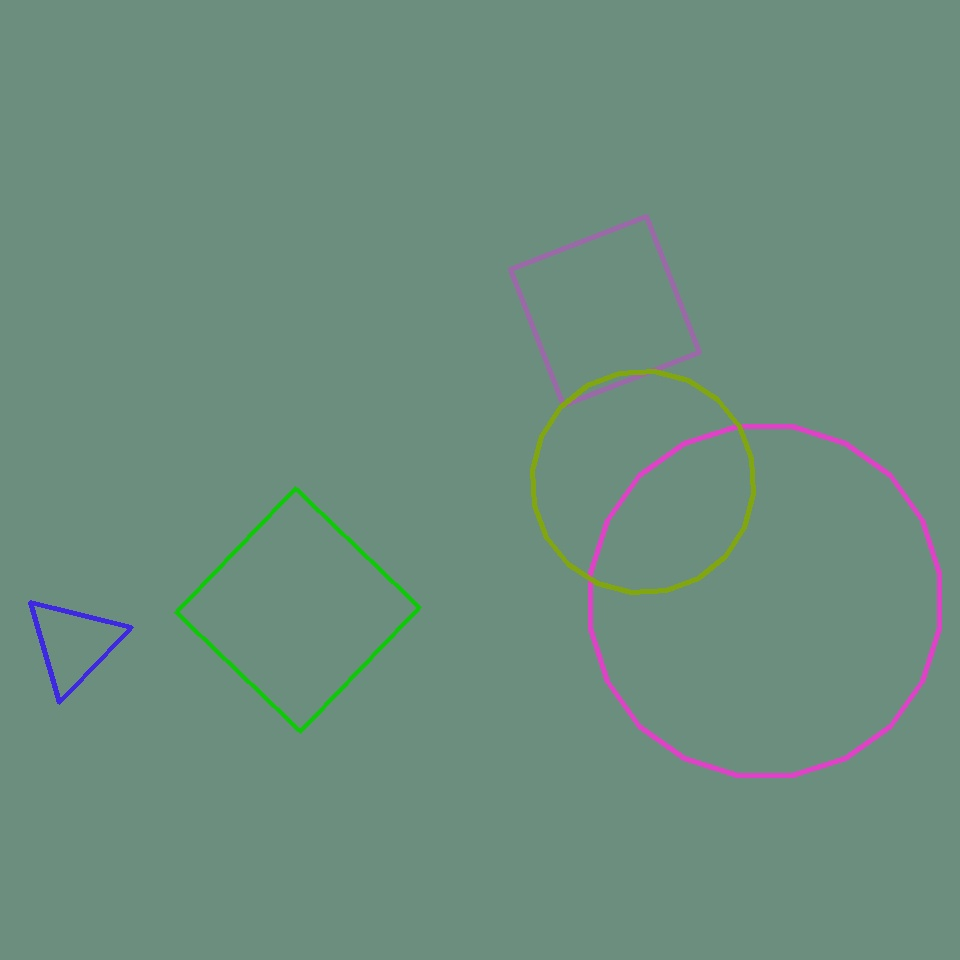circle: (24, 594, 125, 694)
square: (176, 488, 420, 732), (511, 216, 700, 406)
triangle: (590, 427, 940, 776), (532, 372, 754, 592)
